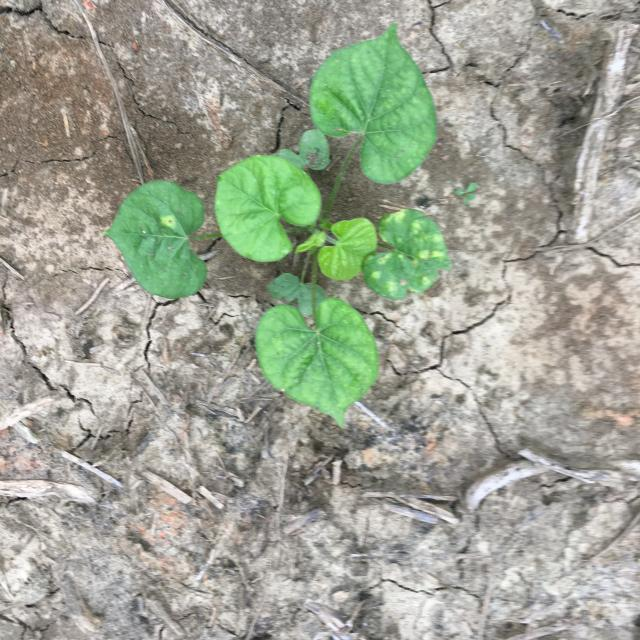MorningGlory: (102, 23, 454, 429)
